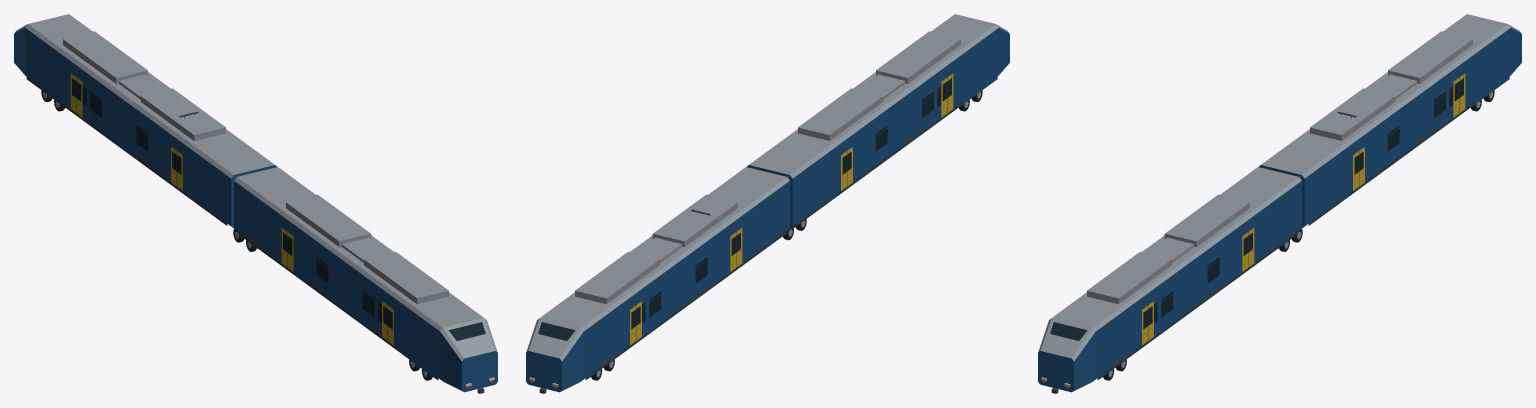
The model's file is neb-mireo-b.glb.
3 renders of one model, left to right at view 1: azimuth 30°, elevation 25°; view 2: azimuth 150°, elevation 25°; view 3: azimuth 330°, elevation 25°, orthographic.
Parts seen in each view (by area): view 1: neb-mireo-b.segment-01.005, neb-mireo-b.segment-02.005; view 2: neb-mireo-b.segment-02.005, neb-mireo-b.segment-01.005; view 3: neb-mireo-b.segment-01.005, neb-mireo-b.segment-02.005.
Boxes of the visible parts, x1,y1,x2,y2 form: neb-mireo-b.segment-01.005: (233,167,497,393); neb-mireo-b.segment-02.005: (14,14,277,228); neb-mireo-b.segment-02.005: (526,167,789,393); neb-mireo-b.segment-01.005: (746,14,1009,240); neb-mireo-b.segment-01.005: (1038,167,1302,393); neb-mireo-b.segment-02.005: (1258,14,1521,228).
Bounding box in the file's own units: 2.86 × 4.18 × 47.
